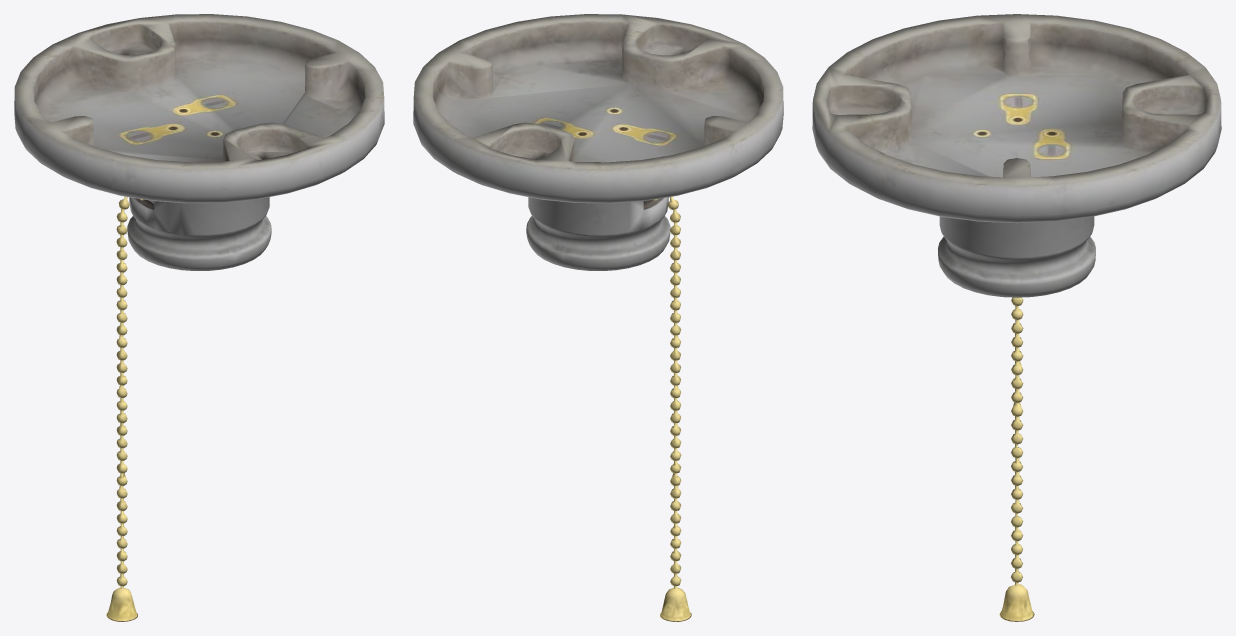
File: pull_chain_socket.glb
3 renders of one model, left to right at view 1: azimuth 30°, elevation 25°; view 2: azimuth 150°, elevation 25°; view 3: azimuth 270°, elevation 25°, orthographic. The views are drawn at different scales.
Parts seen in each view (by area): view 1: pull_chain_light_socket, pull_chain_light_socket_chain; view 2: pull_chain_light_socket, pull_chain_light_socket_chain; view 3: pull_chain_light_socket, pull_chain_light_socket_chain.
Part boxes in pixels (box(x1,y1,x2,y2)): pull_chain_light_socket: box(14, 14, 384, 270); pull_chain_light_socket_chain: box(106, 196, 138, 621); pull_chain_light_socket: box(413, 14, 783, 270); pull_chain_light_socket_chain: box(659, 196, 691, 621); pull_chain_light_socket: box(812, 14, 1221, 297); pull_chain_light_socket_chain: box(999, 297, 1034, 621).
Size of the model in its own units: 0.1103 by 0.1653 by 0.1103.
1 material, 1 textured.
